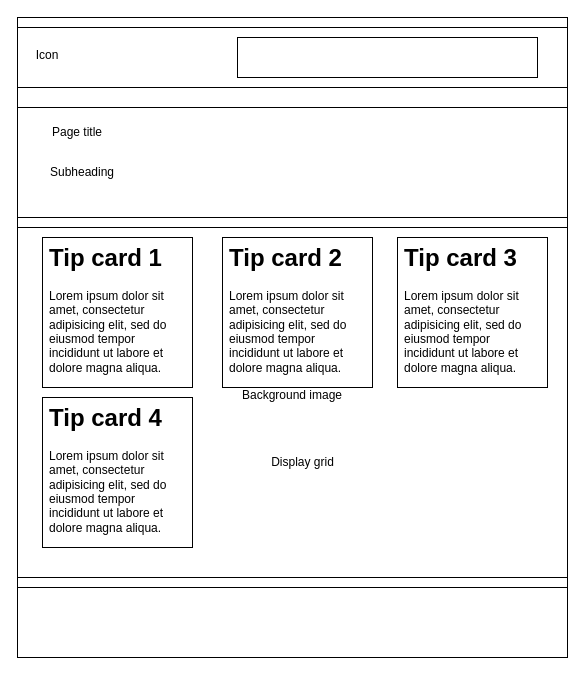
Some shapes in this 585 by 675 pixel diagram are drawn without their labels. Each missing label, with the centre of its shape:
Footer (socials | reference page): the point at 292,622
Navigation links: the point at 387,57
